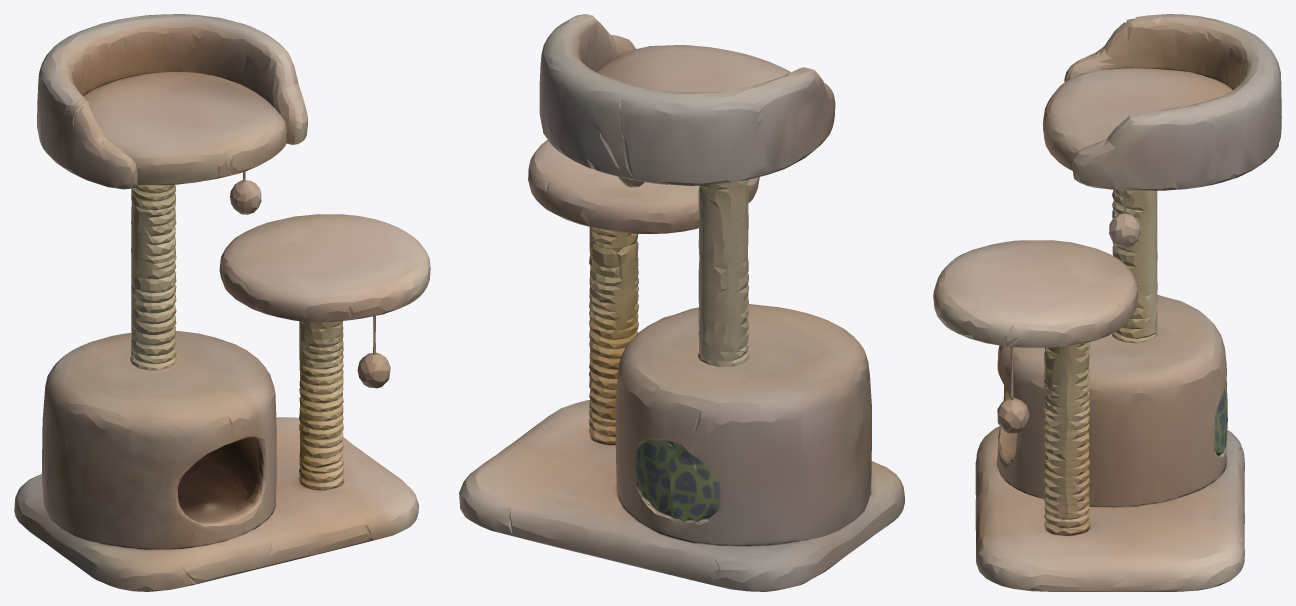
Rendered from cat_tree.glb.
3 views of the same model, side by side, from view 1: azimuth 30°, elevation 25°; view 2: azimuth 150°, elevation 25°; view 3: azimuth 270°, elevation 25° (orthographic). The views are drawn at different scales.
Visible parts, largest first — view 1: model; view 2: model; view 3: model.
Part boxes in pixels (<box>): model: <box>14,14,430,591</box>; model: <box>459,14,904,591</box>; model: <box>933,14,1281,591</box>.
Bounding box in the file's own units: 1.34 × 1.77 × 1.26.
1 material, 1 textured.
